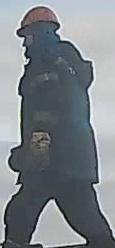gloves: (28, 130, 52, 174)
helmet: (14, 5, 62, 37)
vest: (16, 41, 98, 179)
